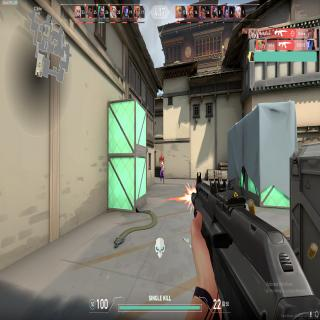ENEMY-BODY: (158, 158, 166, 185)
